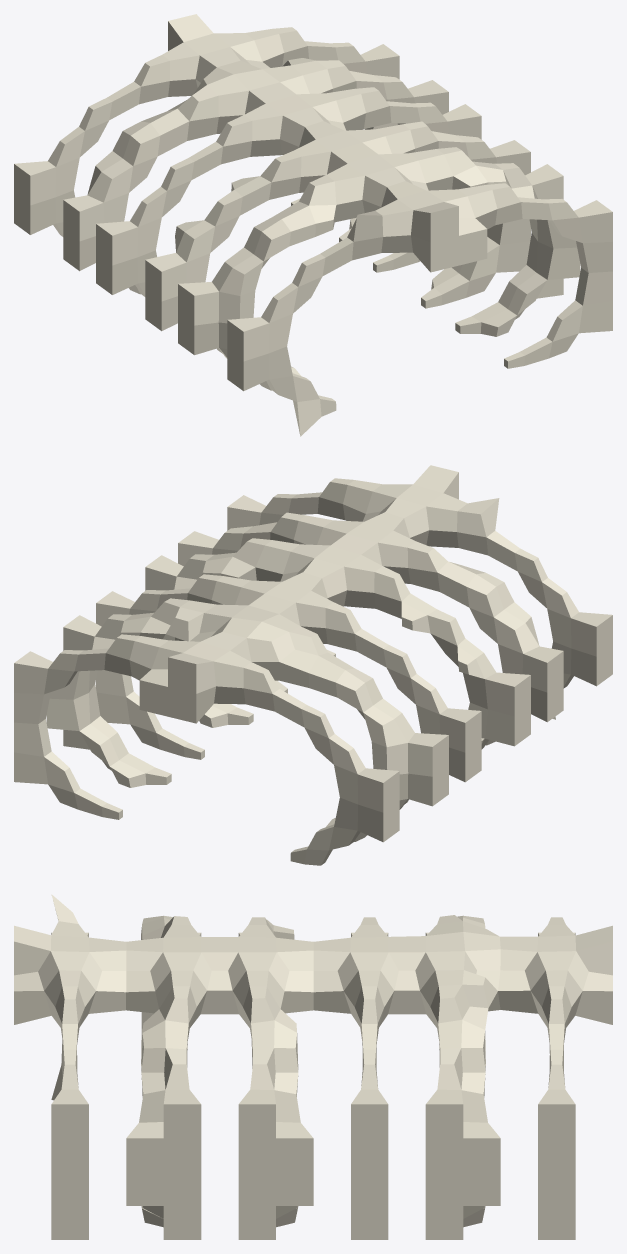
File: prop_ribcage.glb
3 renders of one model, top to bottom at view 1: azimuth 30°, elevation 25°; view 2: azimuth 150°, elevation 25°; view 3: azimuth 270°, elevation 25°, orthographic. The views are drawn at different scales.
Parts seen in each view (by area): view 1: wilds_prop_ribcage; view 2: wilds_prop_ribcage; view 3: wilds_prop_ribcage.
Part boxes in pixels (x1=…): wilds_prop_ribcage: x1=14, y1=14, x2=612, y2=436; wilds_prop_ribcage: x1=14, y1=465, x2=612, y2=865; wilds_prop_ribcage: x1=14, y1=894, x2=612, y2=1239.
Bounding box in the file's own units: 0.8125 × 0.4375 × 1.
